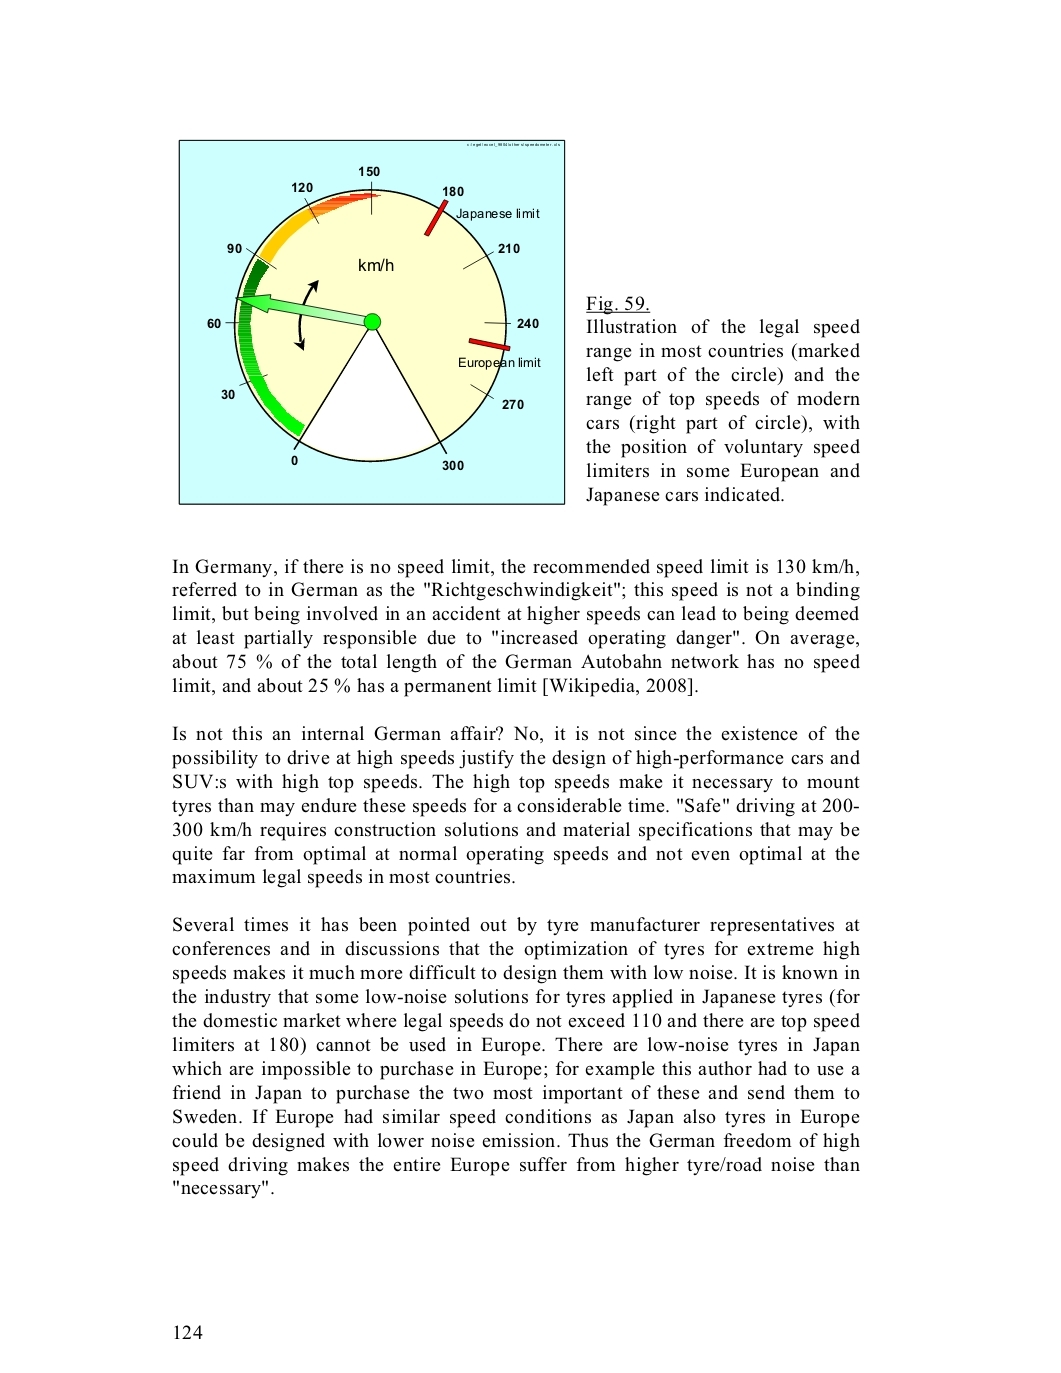figure: (178, 139, 565, 504)
